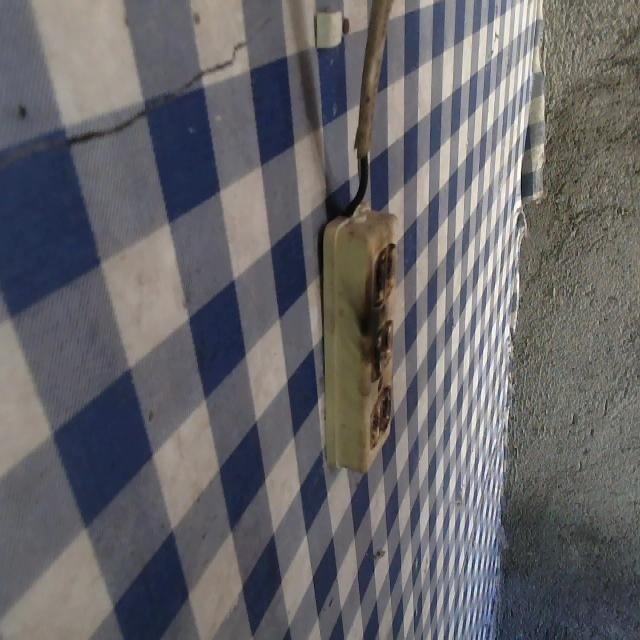-: (366, 234, 396, 306), (364, 381, 393, 447), (367, 316, 393, 372)
